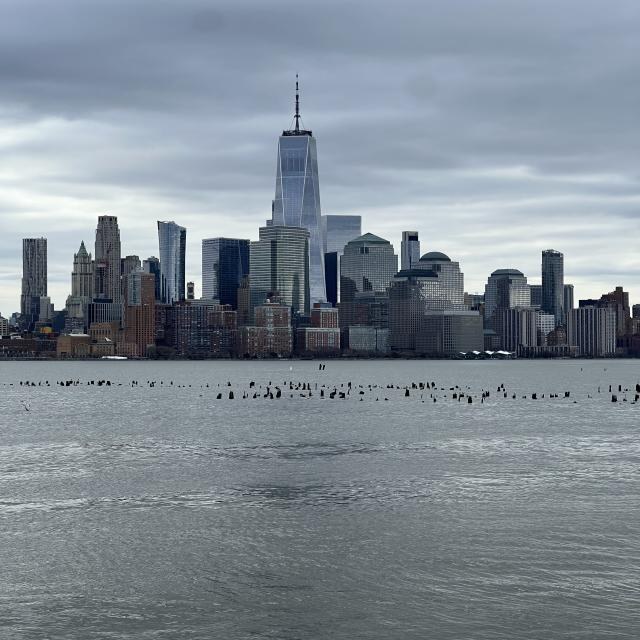WTC: (272, 72, 323, 226)
